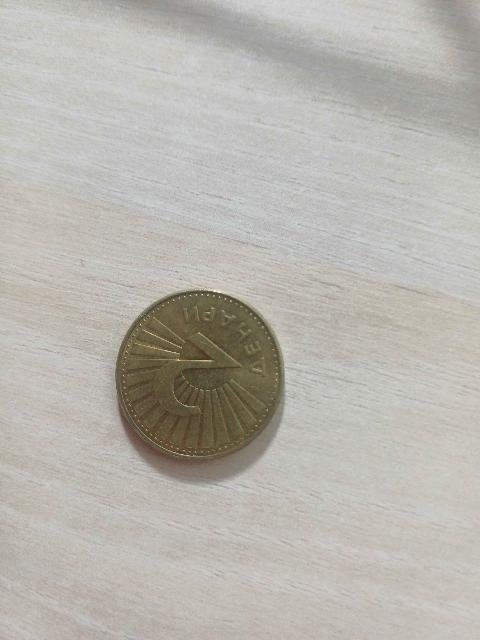2_coin: (116, 290, 283, 459)
